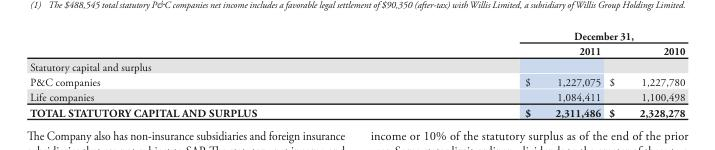table: (29, 29, 684, 118)
table column: (29, 29, 390, 118), (390, 29, 604, 118), (604, 29, 684, 118)
table column header: (29, 29, 684, 58)
table projected row header: (29, 58, 684, 74)
table row: (29, 58, 684, 74), (29, 43, 684, 58), (29, 74, 684, 89), (29, 89, 684, 104), (29, 29, 684, 43), (29, 104, 684, 118)
table spanning cell: (390, 29, 684, 43)
